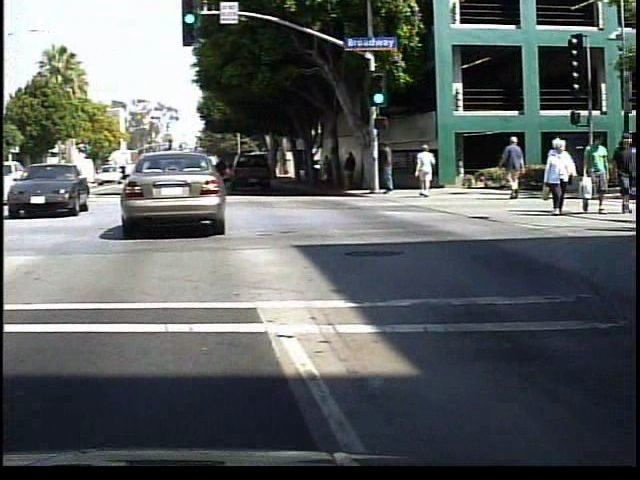person: (541, 138, 582, 218), (584, 135, 617, 215), (503, 138, 536, 202), (615, 129, 639, 215), (416, 141, 441, 200), (382, 138, 402, 200), (347, 147, 365, 192), (327, 152, 342, 190)
